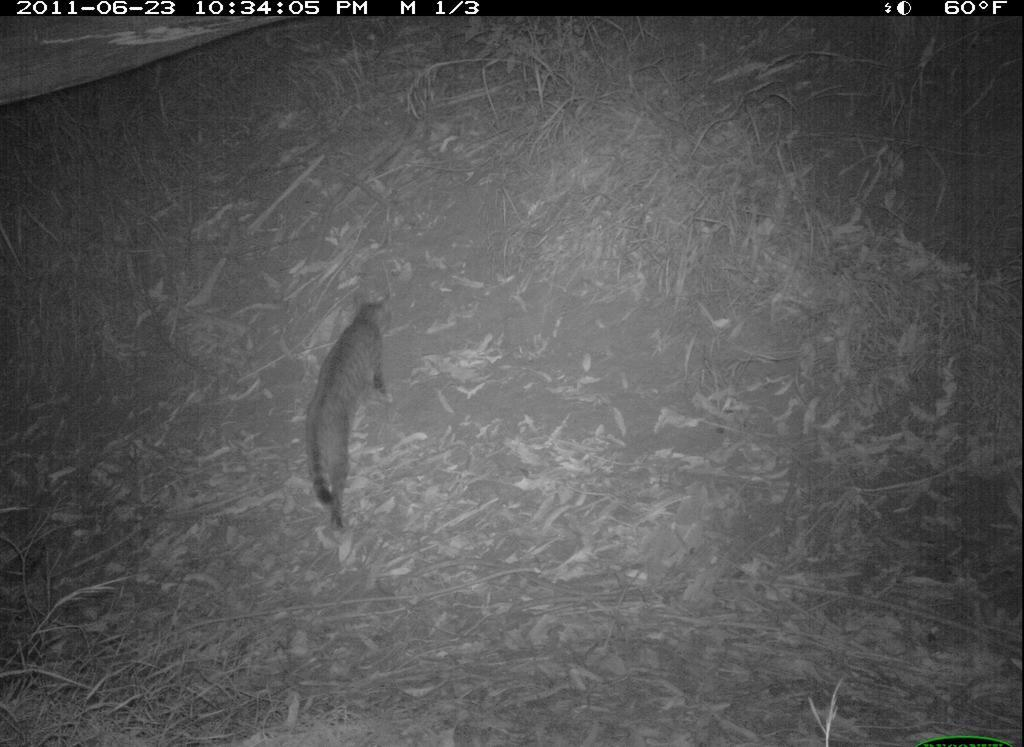cat: (300, 290, 399, 536)
